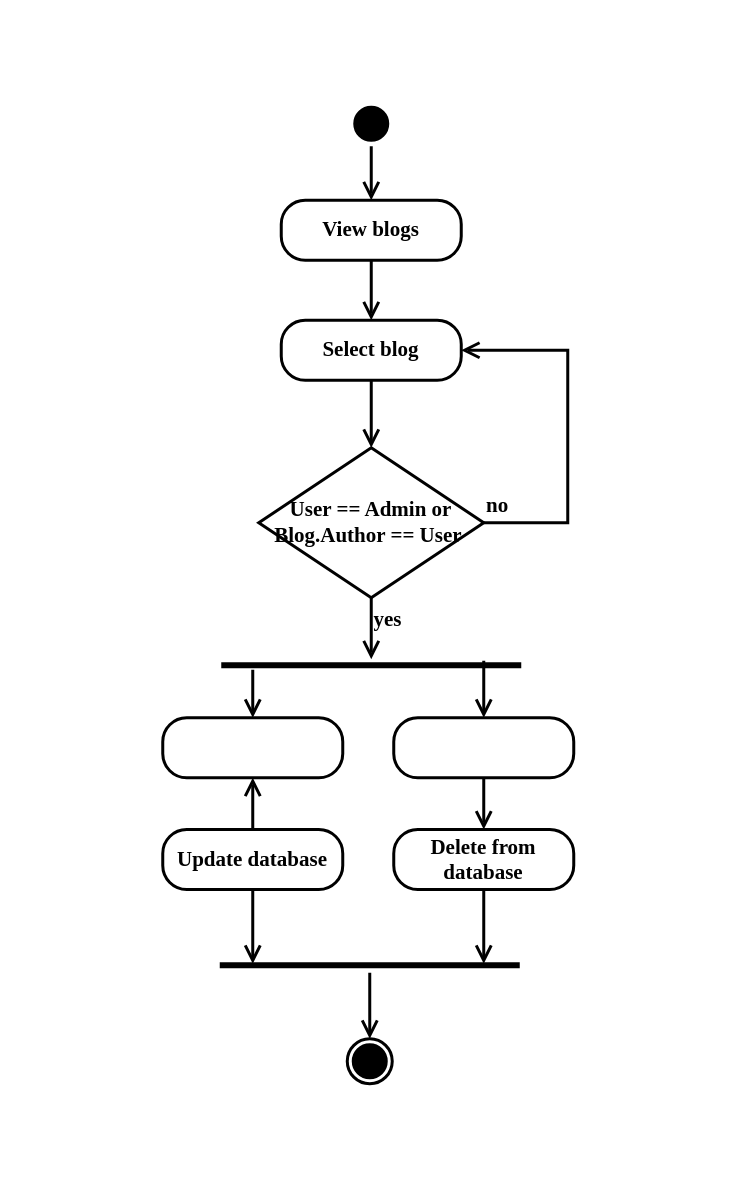
Some shapes in this 744 by 1194 pixel diagram are drawn without their labels. Each missing label, with the box of its shape:
Delete blog: (392, 716, 574, 778)
Edit blog: (160, 716, 344, 778)
